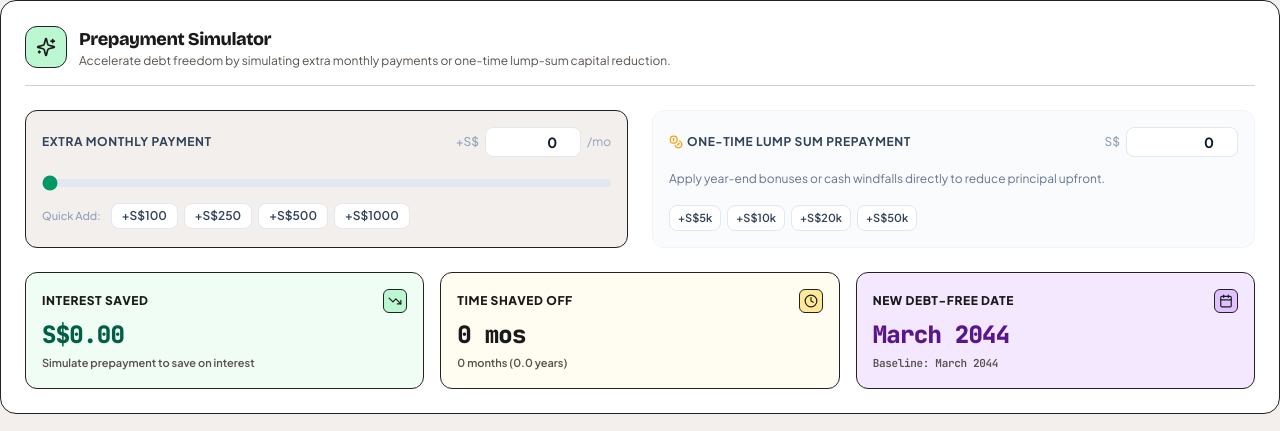
Test: Task 9: Loans & Debt Freedom Engine › PrepaymentSimulator › calculates interest saved and time saved when extra monthly prepayment is increased
The image size is (1280, 431).
Replace the text in the number field with test id "extra-monthly-input" with "500": (533, 142) [485,127,581,157]
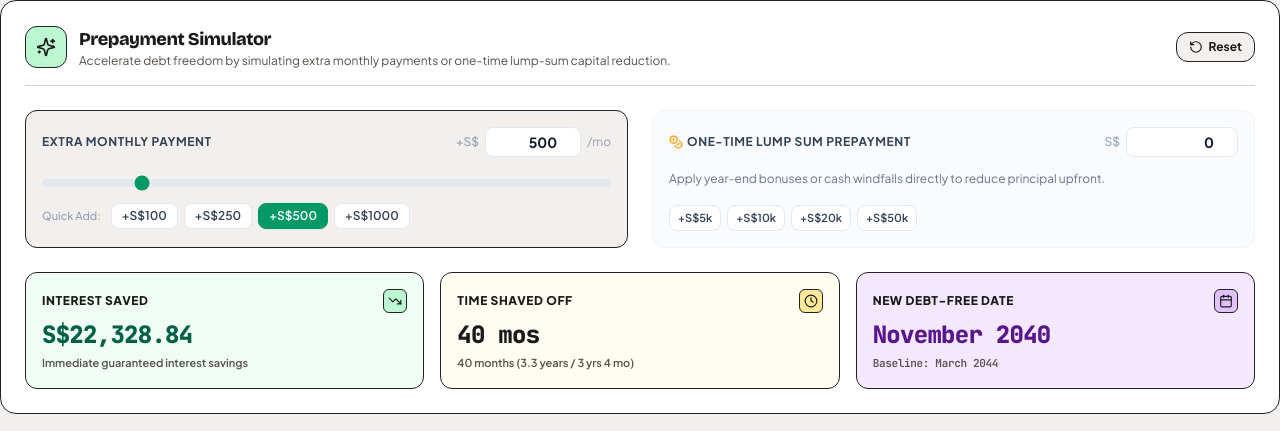
Expected: the text "40 mos" is shown, [457,319,539,350]
Expected: the text with test id "interest-saved" no longer shows "S$0.00"
